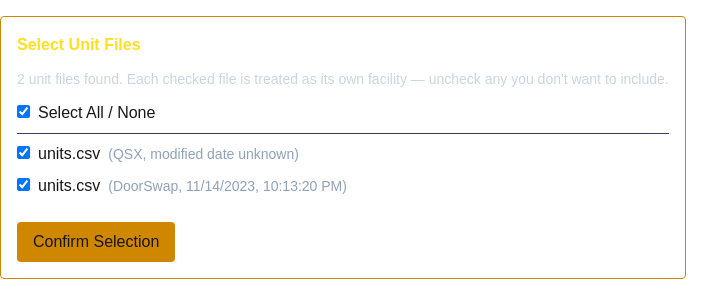
Test: UnitFileSelectionSection › unchecks Select All once any single candidate is unchecked, and disables Confirm at zero checked
This screenshot has width=703, height=296.
Click the checkbox labelled "units.csv(QSX, modified date unknown)": [24, 152] box x1=17 y1=146 x2=30 y2=159
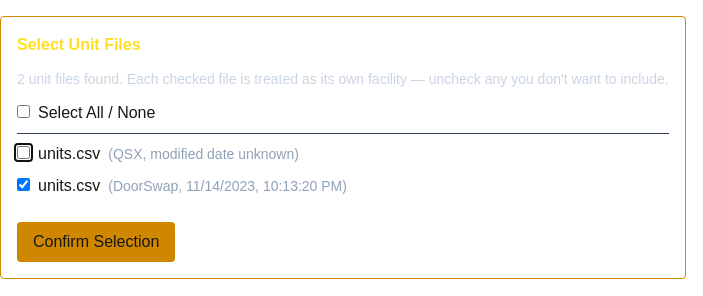
Click the checkbox labelled "units.csv(DoorSwap, 11/14/2023, 10:13:20 PM)": [24, 184] box x1=17 y1=178 x2=30 y2=191
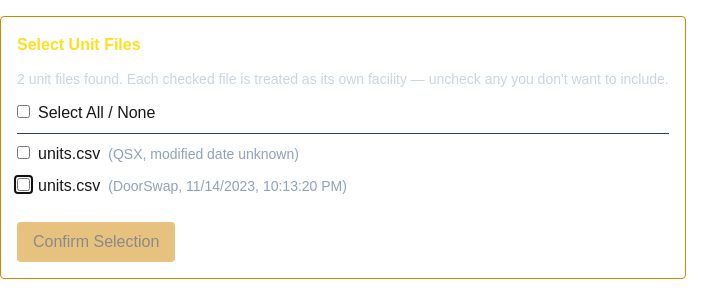
Expected: the checkbox labelled "Select All / None" is not checked, x1=17 y1=105 x2=30 y2=118
Expected: the button "Confirm Selection" is disabled, x1=17 y1=222 x2=175 y2=262
